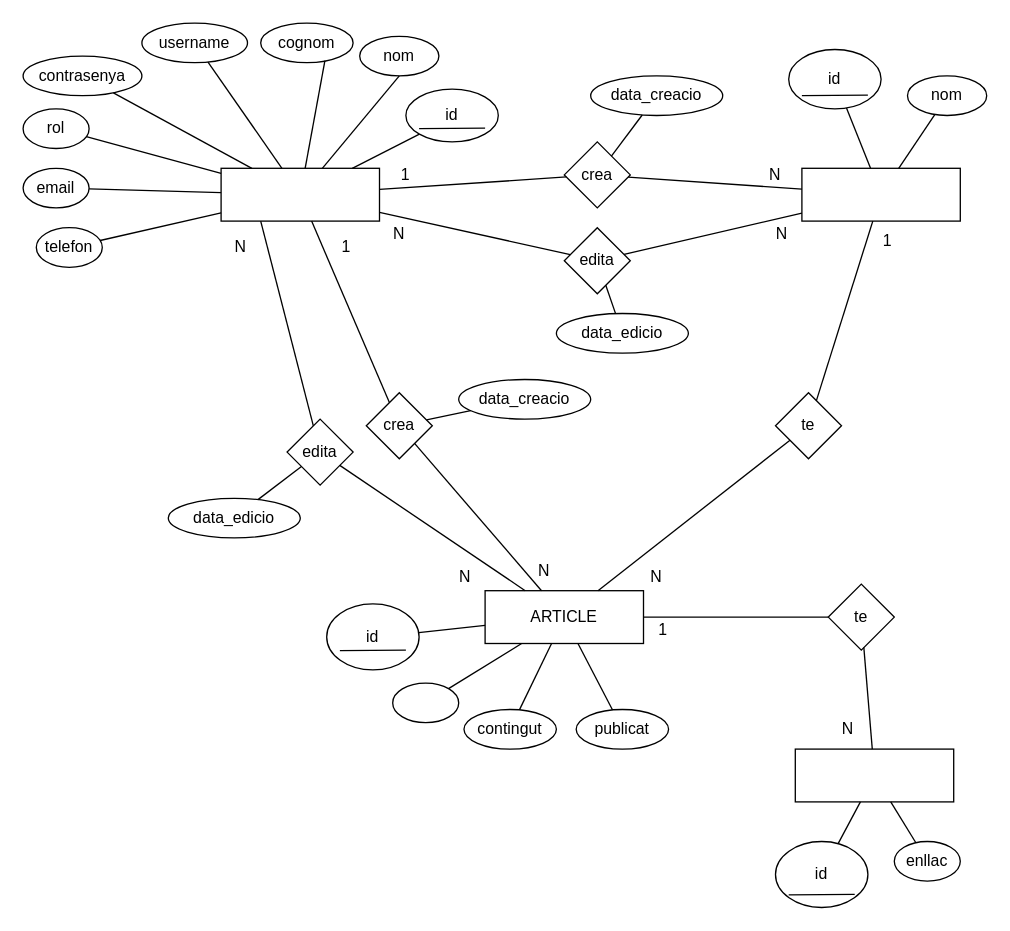
This 1010x931 diagram has some shape labels left out. The box of each missing label's shape, as (x1, y1, x2, y2) in pixels:
CATEGORIA: (801, 167, 960, 221)
DOCUMENT: (794, 748, 954, 802)
titol: (391, 682, 459, 723)
USUARI: (220, 167, 380, 221)
